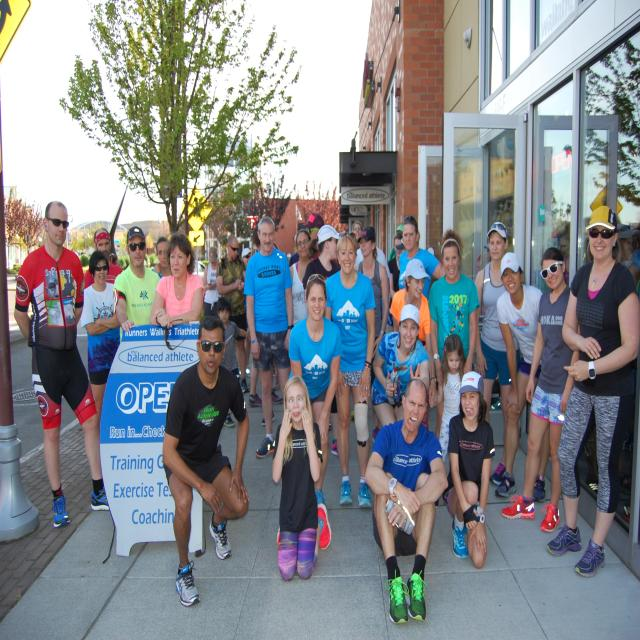body: (542, 203, 640, 579), (534, 208, 640, 540), (13, 197, 118, 531), (160, 313, 250, 613), (498, 244, 584, 531), (364, 378, 449, 625), (490, 249, 554, 502), (324, 231, 376, 511), (268, 375, 333, 584), (288, 273, 342, 507), (243, 215, 294, 460), (427, 227, 482, 441), (442, 371, 495, 569), (474, 220, 511, 487), (302, 225, 341, 457), (352, 227, 391, 446), (79, 248, 121, 436), (350, 227, 390, 423), (371, 303, 430, 428), (389, 258, 436, 410), (247, 219, 281, 409), (215, 233, 251, 394), (112, 226, 161, 344), (148, 232, 206, 330), (428, 334, 467, 466), (217, 296, 250, 429), (398, 214, 444, 299), (289, 228, 315, 326), (84, 227, 124, 289), (387, 230, 408, 334), (237, 247, 252, 379), (301, 212, 339, 264), (461, 220, 491, 272), (384, 212, 412, 266), (203, 247, 220, 319), (151, 236, 172, 280), (266, 354, 283, 396), (350, 220, 364, 268), (109, 242, 125, 270), (489, 199, 512, 217), (215, 248, 232, 270), (77, 249, 91, 267)
